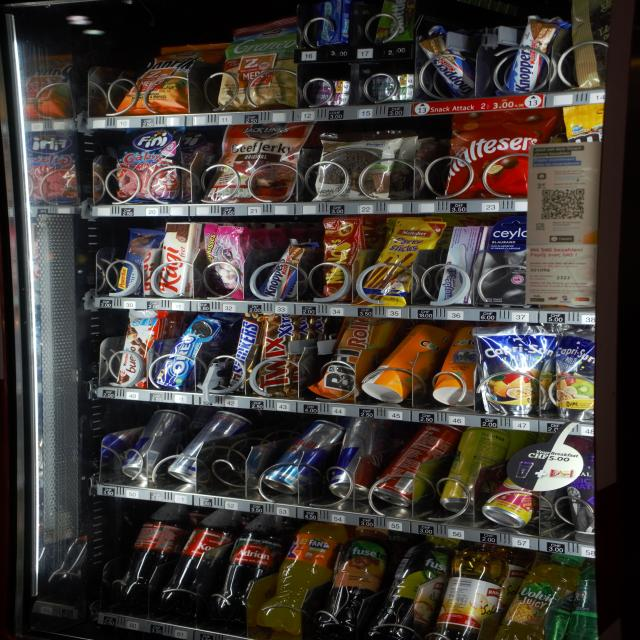airwaves_menthoneucalyptus_riegel_14_1_50173167: (317, 6, 357, 46)
berger____: (300, 128, 406, 209)
bifi_roll__50__4251097402635: (315, 315, 382, 400)
bueno___43__4008400320328: (111, 304, 162, 390)
c-swiss_dosenabisicetea__33__9120025930135: (365, 321, 453, 405)
caferoyal_classicmacchiato__33__7617014164487: (567, 456, 601, 537)
caprisun_multivitamin__20__4000177605004: (470, 324, 563, 421), (544, 328, 599, 428)
coke__dose_33__54491472: (380, 426, 438, 504)
coke__flasche_50__54491472: (162, 503, 238, 607), (116, 504, 191, 596)
coke_zero_flasche_50__5449000131836: (207, 513, 282, 619)
fanta___50__40822938: (260, 517, 350, 631)
fini_galaxymix_packung_100_1_8410525150364: (114, 130, 180, 200)
fini_jellykisses_packung_80_1_8410525116704: (202, 224, 241, 289)
fuse_lemon__50__5449000235947: (367, 530, 459, 640)
fuse_lemon_dose_33__5449000235947: (451, 426, 490, 511)
fuse_peach__50__5449000236623: (313, 523, 397, 640)
jacklinks_beefjerkyorginal__25__4047751730219: (194, 117, 314, 207)
kagi___50__7610046000259: (156, 220, 195, 299)
knoppers_riegel____4035800488808: (490, 10, 566, 96), (416, 22, 483, 98), (255, 233, 308, 300)
lorenz_nicnacs__40__4018077798818: (315, 215, 371, 301)
malburner_partysticks__40__7610200279682: (360, 217, 450, 311)
maltesers___100__5000159023061: (442, 105, 552, 198)
oreo___66__84100733: (157, 311, 225, 384)
powerbar_proteinplusschoko__55__4029679520028: (112, 221, 164, 296)
ramseier_schorle__50__7610057012456: (438, 543, 503, 640)
redbull___33__90162909: (120, 404, 173, 478)
redbull_light__33__90162800: (269, 416, 335, 501)
skittles_sour_riegel_51_1_: (372, 0, 412, 41)
snickers___50__5000159461122: (222, 313, 260, 395)
stimorol_spearmint_riegel_14_1_: (369, 74, 414, 99)
stimorol_wildcherry_riegel_14_1_57060330: (313, 79, 351, 109)
twix___50__5000159459228: (260, 313, 312, 396)
volvic_pinapple__50__305764335648: (497, 548, 577, 640)
zweifel_graneochilli__100__7610095184009: (211, 20, 315, 114)
zweifel_paprika__90__7610095013002: (95, 39, 224, 121)
